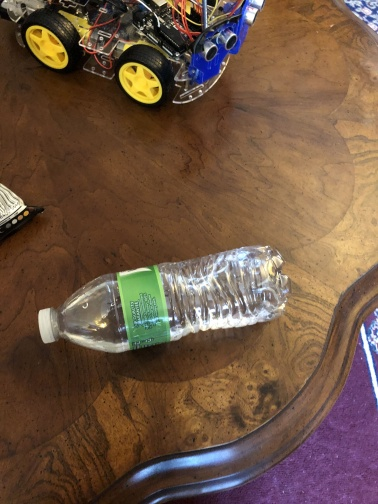bottle: (35, 241, 298, 356)
